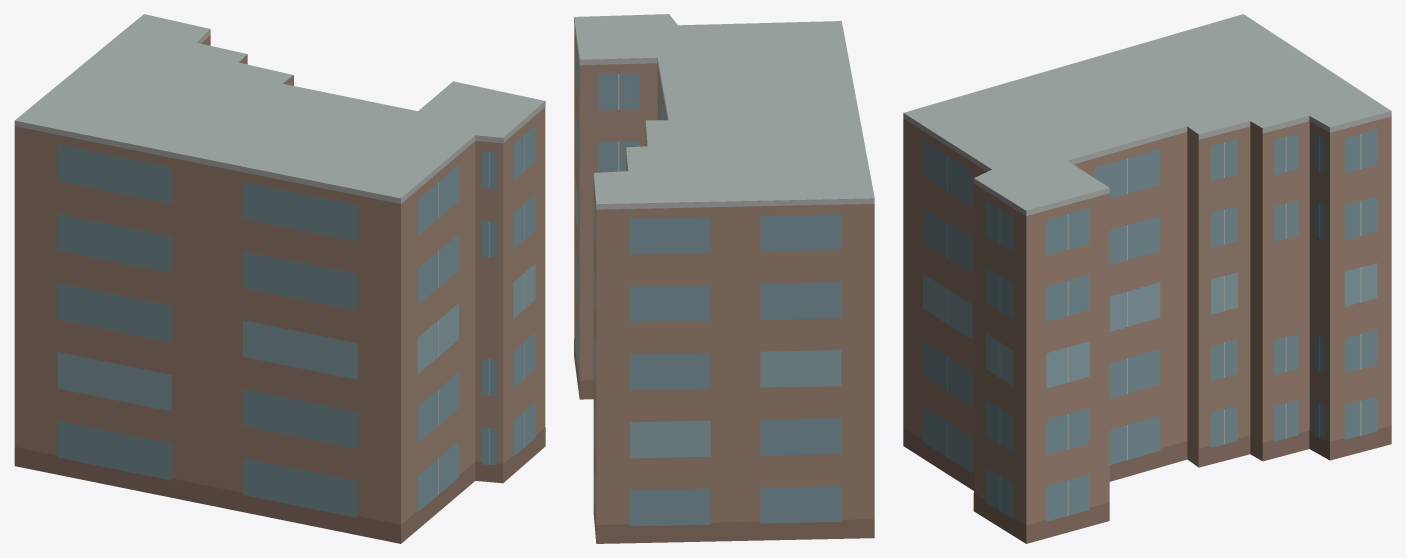
Rendered from survey-upis-32564985.glb.
3 renders of one model, left to right at view 1: azimuth 30°, elevation 25°; view 2: azimuth 150°, elevation 25°; view 3: azimuth 270°, elevation 25°, orthographic. The views are drawn at different scales.
Parts seen in each view (by area): view 1: survey-upis-32564985.tmp; view 2: survey-upis-32564985.tmp; view 3: survey-upis-32564985.tmp.
Part boxes in pixels (left/top/right/bottom): survey-upis-32564985.tmp: left=14, top=14, right=545, bottom=543; survey-upis-32564985.tmp: left=574, top=14, right=874, bottom=543; survey-upis-32564985.tmp: left=903, top=14, right=1391, bottom=543.
Bounding box in the file's own units: 19.27 × 15.2 × 20.21.
